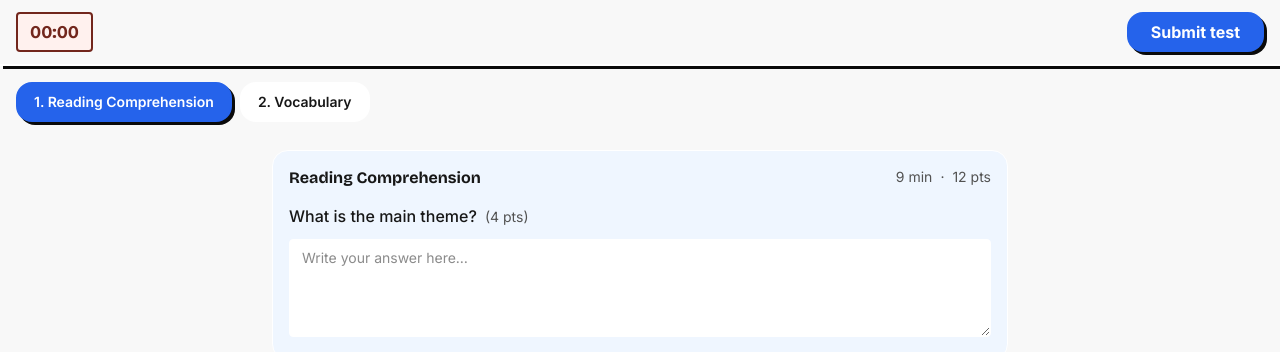
Test case: ChapterTestPlayer › clicking tab 2 switches the active section
Expected: the text "What is the main theme?" is shown, [289,206,477,226]
Expected: the text "define the word" is not shown
Click the tab "2. Vocabulary". click: (305, 102)
box: [240,82,370,122]
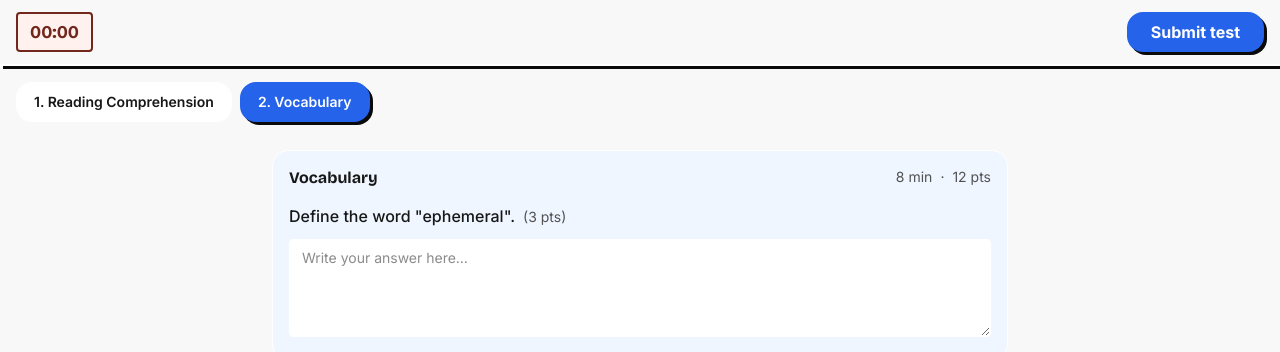
Expected: the text "Define the word \"ephemeral\".(3 pts)" is shown, [289,206,566,226]
Expected: the text "What is the main theme?" is gone
